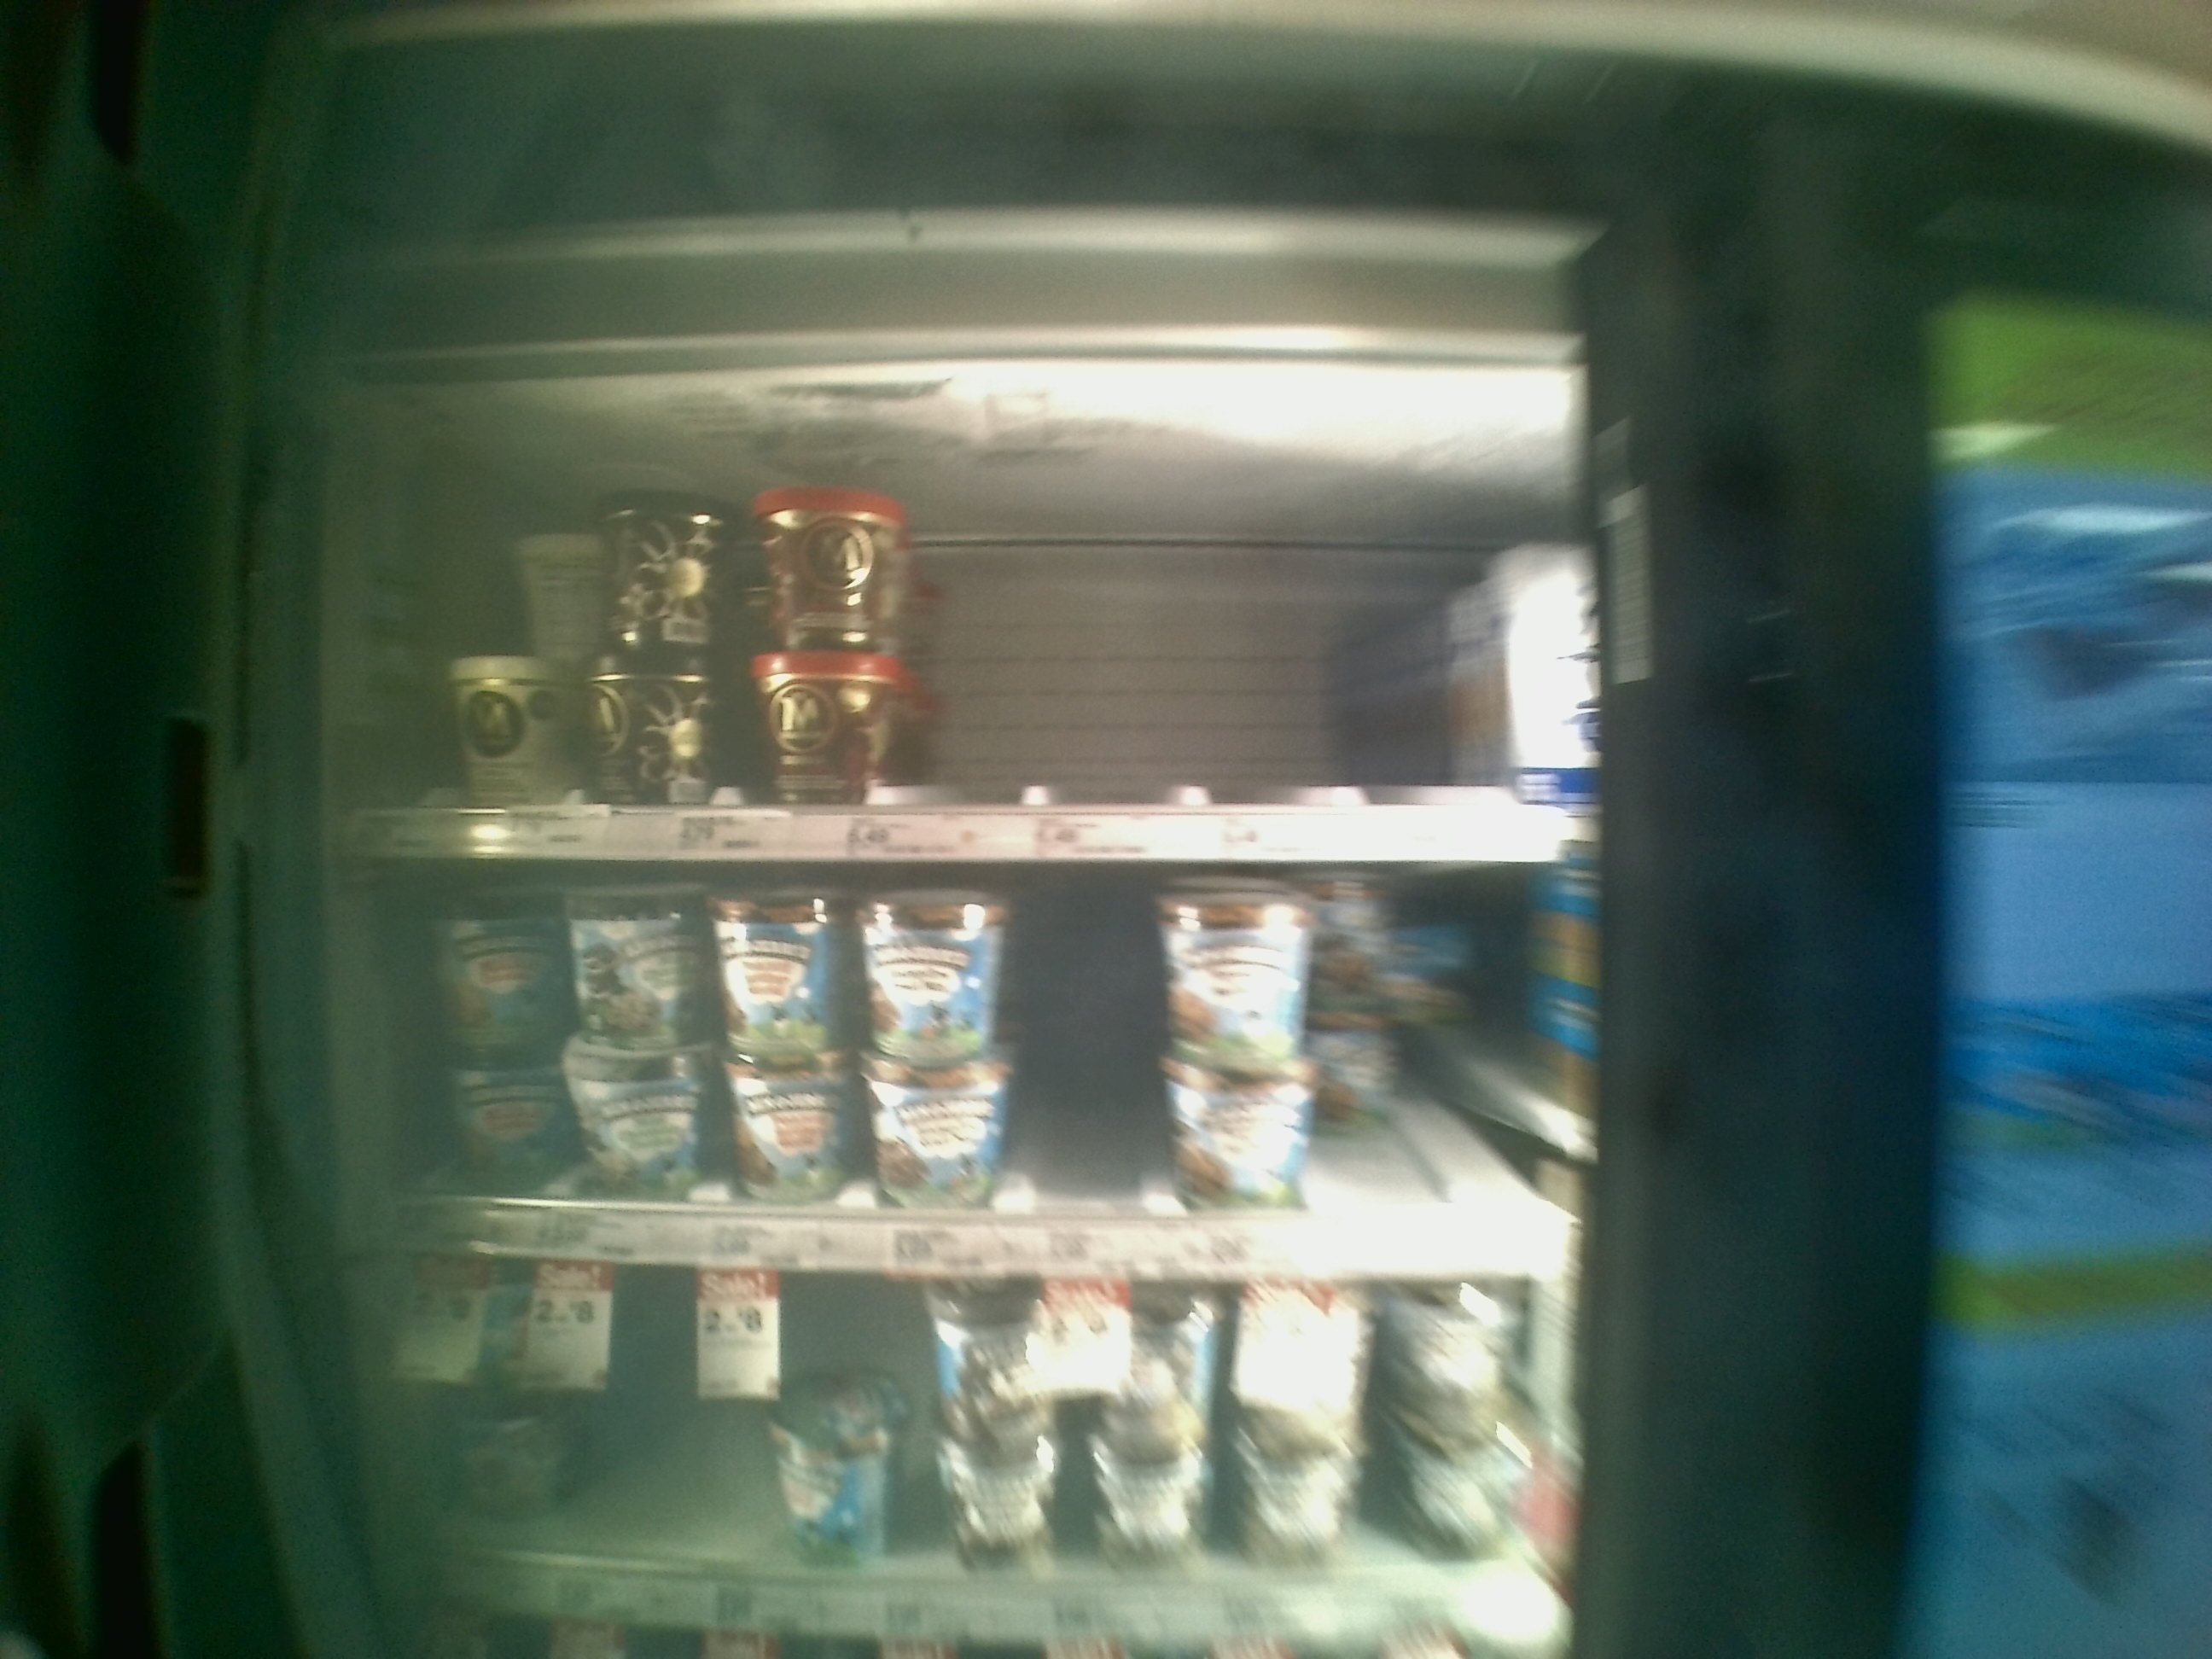shelf: (374, 376, 1583, 859), (376, 859, 1590, 1279)
